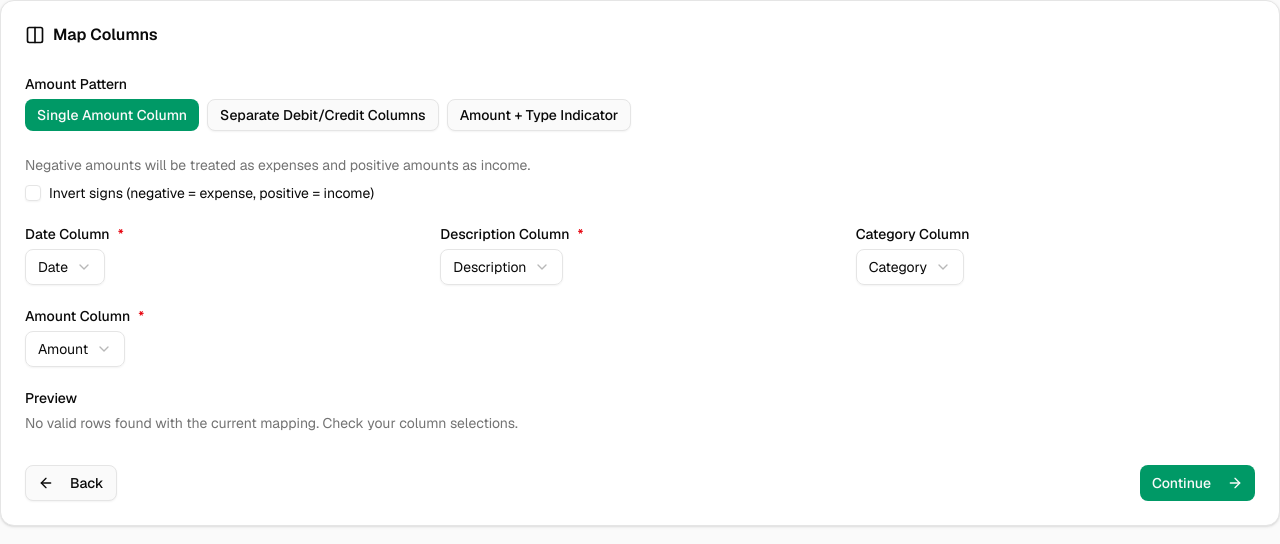
it: ColumnMapper › shows Debit and Credit column selectors after switching to separate pattern
What coordinates should you click on to do the following:
click the button "Separate Debit/Credit Columns"
I would click on:
 (323, 115)
Its box is [207, 99, 439, 131].
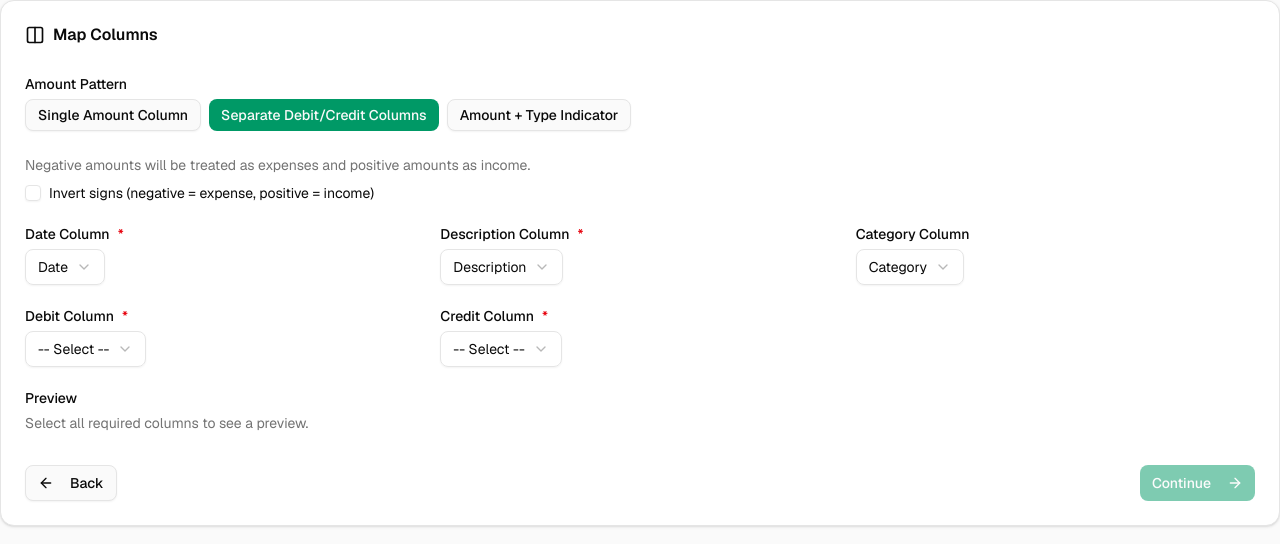
Now the text "Debit Column" is shown, box [25, 307, 114, 325]
Now the text "Credit Column" is shown, box [440, 307, 534, 325]
